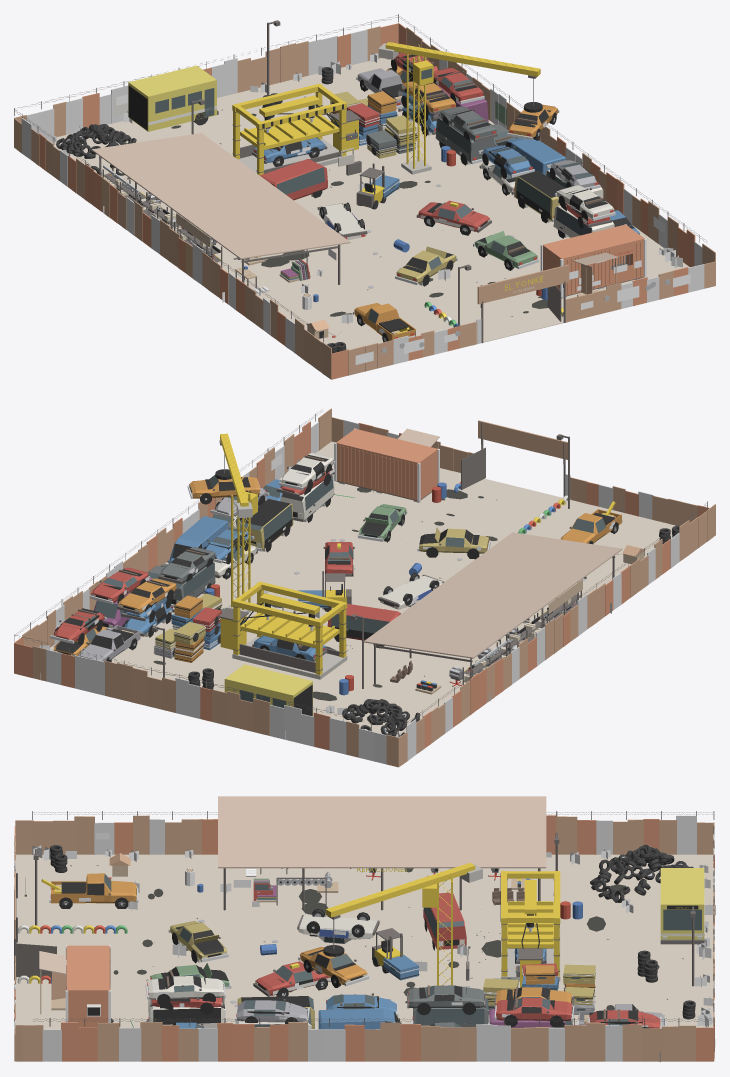
The model's file is yonke_fuera.glb.
3 views of the same model, one above another, from view 1: azimuth 30°, elevation 25°; view 2: azimuth 150°, elevation 25°; view 3: azimuth 270°, elevation 25° (orthographic). The views are drawn at different scales.
Parts seen in each view (by area): view 1: Patio_todo, Barda_todo, Patio_detalle, Grua_mov_pluma, Prensa_mov_placa, Grua_mov_carga, Prensa_mov_carro; view 2: Patio_todo, Barda_todo, Prensa_mov_placa, Patio_detalle, Grua_mov_carga, Grua_mov_pluma, Prensa_mov_carro; view 3: Patio_todo, Barda_todo, Patio_detalle, Grua_mov_pluma, Prensa_mov_placa, Grua_mov_carga.
Boxes of the visible parts, x1,y1,x2,y2 form: Patio_todo: [47, 21, 690, 375]; Barda_todo: [14, 14, 715, 379]; Patio_detalle: [48, 20, 682, 338]; Grua_mov_pluma: [378, 42, 542, 112]; Prensa_mov_placa: [240, 114, 339, 150]; Grua_mov_carga: [507, 104, 559, 140]; Prensa_mov_carro: [252, 137, 327, 166]; Patio_todo: [50, 420, 679, 761]; Barda_todo: [14, 408, 715, 767]; Prensa_mov_placa: [240, 612, 339, 648]; Patio_detalle: [39, 434, 611, 739]; Grua_mov_carga: [187, 475, 261, 504]; Grua_mov_pluma: [215, 433, 252, 518]; Prensa_mov_carro: [252, 635, 327, 661]; Patio_todo: [14, 796, 713, 1029]; Barda_todo: [14, 811, 714, 1061]; Patio_detalle: [32, 837, 715, 1062]; Grua_mov_pluma: [323, 863, 482, 956]; Prensa_mov_placa: [507, 901, 554, 948]; Grua_mov_carga: [298, 947, 369, 987].
Size of what is drawn, in the model's own units: 28.35 by 8.67 by 40.18.
